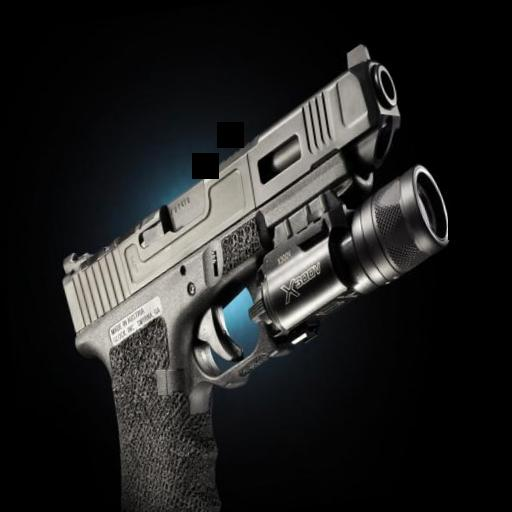Handgun: (26, 33, 482, 512)
